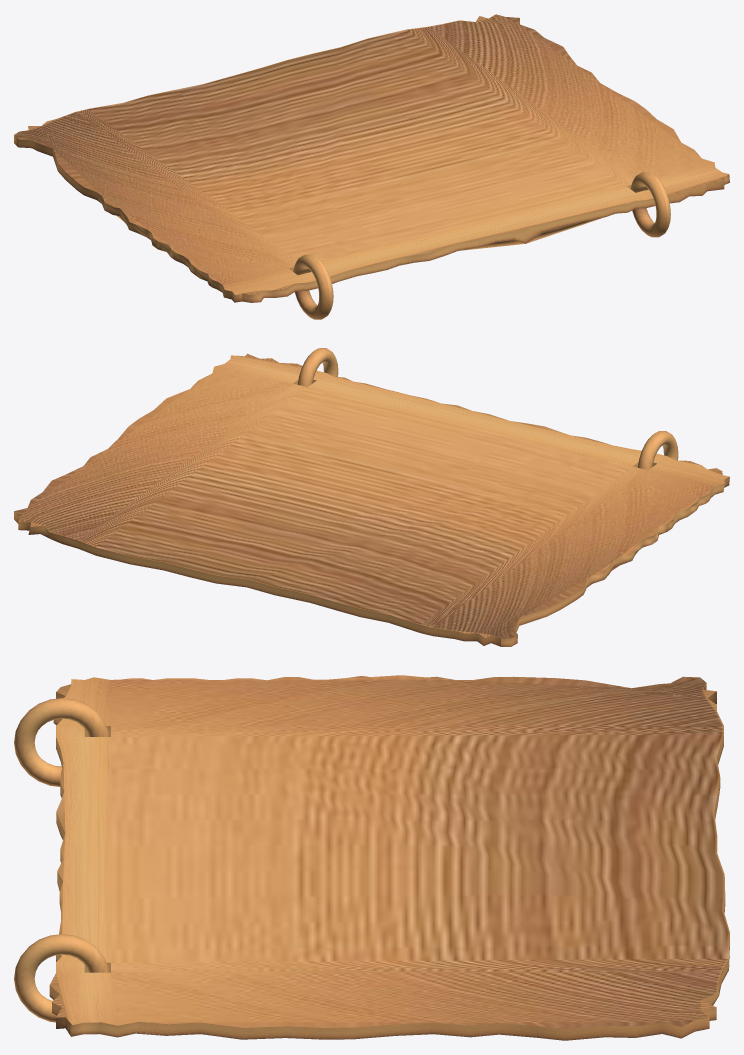
The model's file is MissionSign.FBX.
3 renders of one model, top to bottom at view 1: azimuth 30°, elevation 25°; view 2: azimuth 150°, elevation 25°; view 3: azimuth 270°, elevation 25°, orthographic. The views are drawn at different scales.
Parts seen in each view (by area): view 1: Box011; view 2: Box011; view 3: Box011.
Boxes of the visible parts, x1,y1,x2,y2 form: Box011: (14, 14, 729, 319); Box011: (14, 348, 729, 646); Box011: (14, 675, 729, 1040).
Bounding box in the file's own units: 124 × 14.33 × 106.
Materials: 1 (1 with a texture image).
